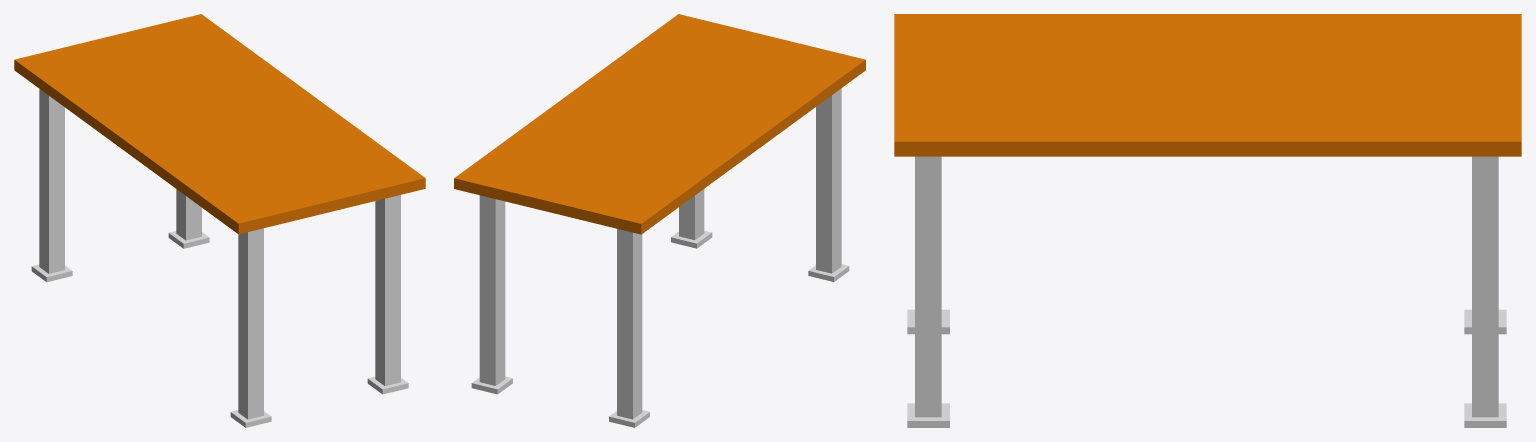
The model's file is table.fbx.
3 views of the same model, side by side, from view 1: azimuth 30°, elevation 25°; view 2: azimuth 150°, elevation 25°; view 3: azimuth 270°, elevation 25° (orthographic). The views are drawn at different scales.
Visible parts, largest first — view 1: Куб, Cube, Cube.001, Cube.002, Cube.003; view 2: Куб, Cube.003, Cube.002, Cube.001, Cube; view 3: Куб, Cube, Cube.003.
Boxes of the visible parts, left/top/right/bottom form: Куб: left=14, top=14, right=425, bottom=234; Cube: left=367, top=195, right=408, bottom=394; Cube.001: left=230, top=228, right=271, bottom=427; Cube.002: left=31, top=89, right=72, bottom=282; Cube.003: left=168, top=189, right=209, bottom=248; Куб: left=454, top=14, right=865, bottom=234; Cube.003: left=471, top=195, right=512, bottom=394; Cube.002: left=609, top=229, right=649, bottom=427; Cube.001: left=808, top=88, right=849, bottom=281; Cube: left=671, top=189, right=712, bottom=248; Куб: left=894, top=14, right=1521, bottom=156; Cube: left=907, top=156, right=949, bottom=427; Cube.003: left=1464, top=156, right=1506, bottom=427.
Size of the model in its own units: 250 by 269 by 520.
